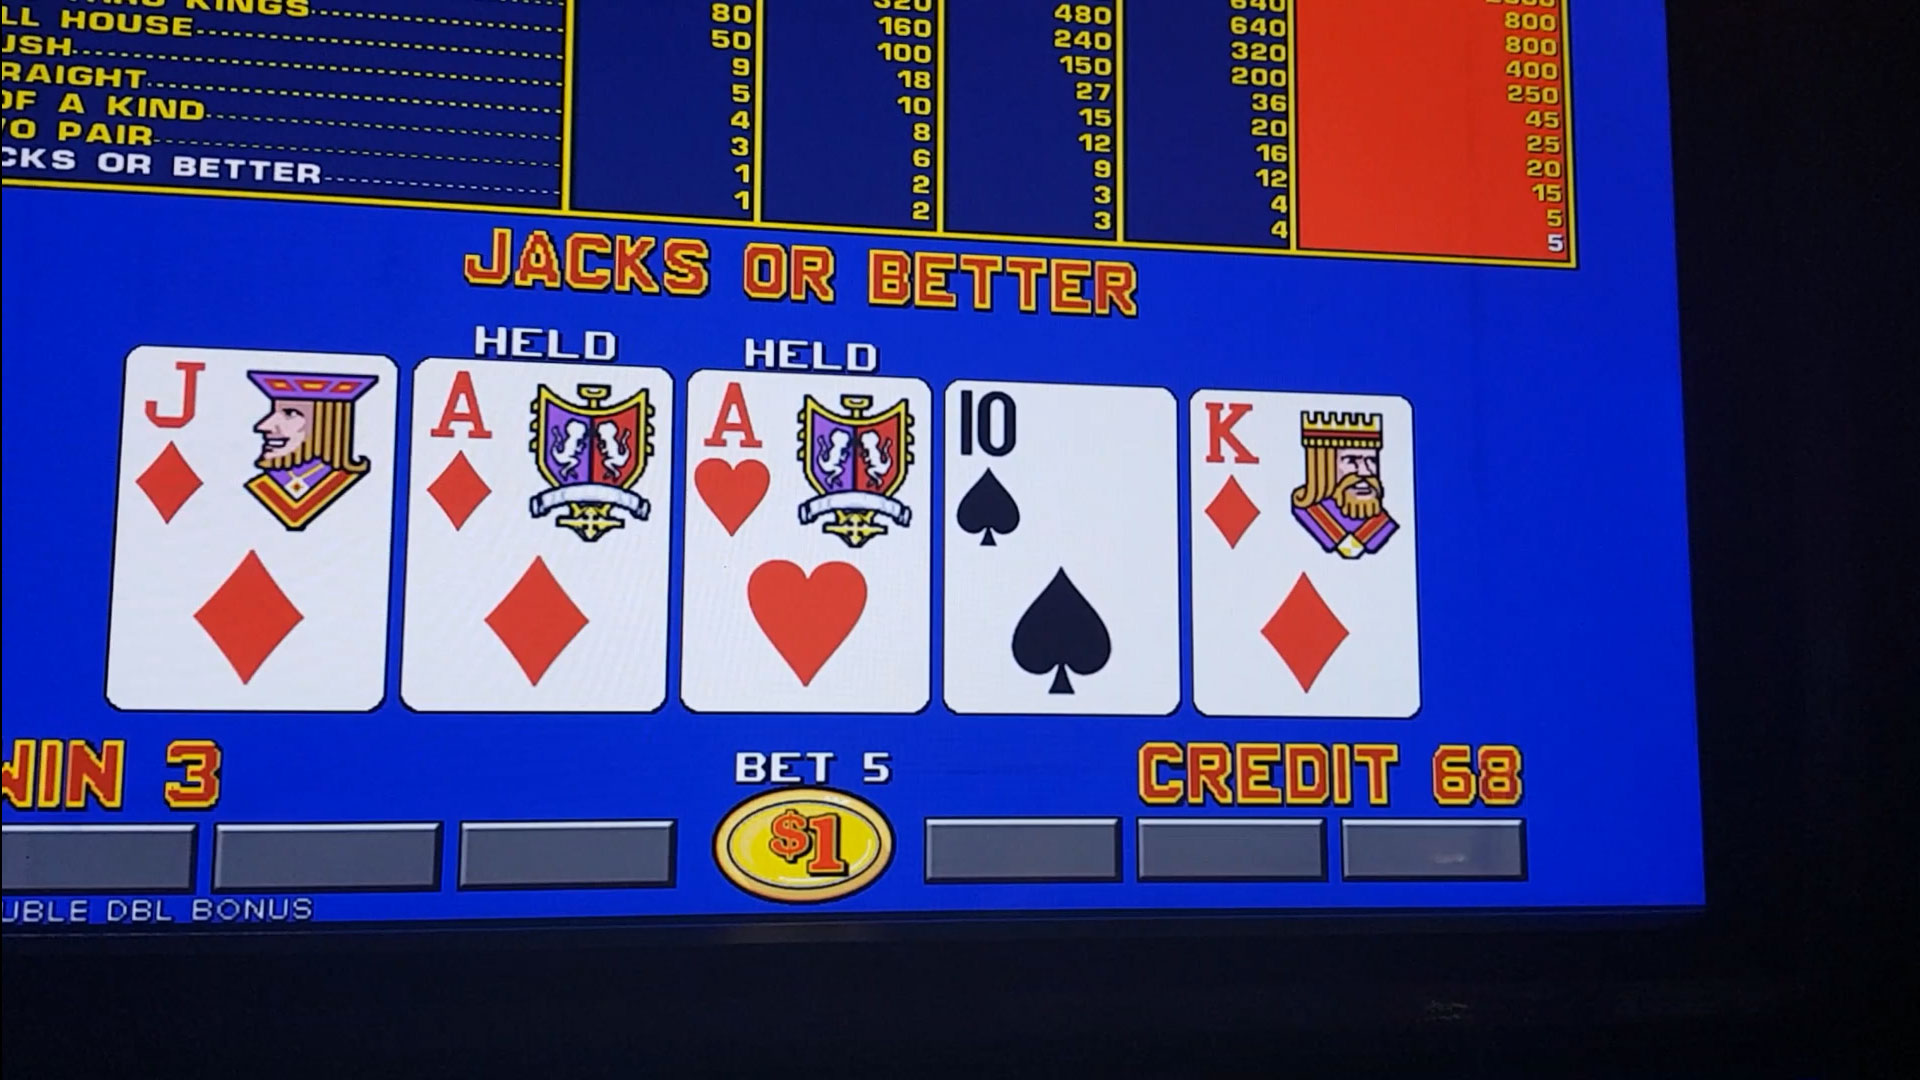DA: (414, 367, 666, 545)
DJ: (129, 349, 396, 539)
DK: (1196, 386, 1411, 567)
HA: (690, 378, 934, 553)
ST: (949, 388, 1174, 563)
